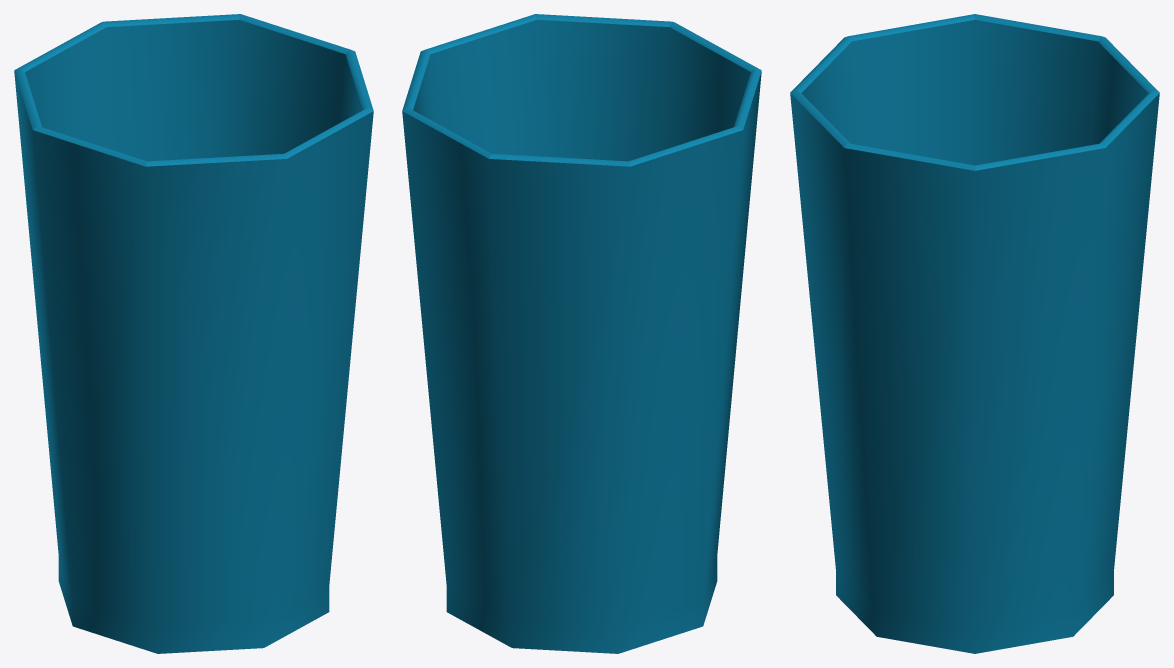
File: Sem4_Prop_Zahnputzbecher_JT.fbx
The picture shows the model from 3 angles, left to right: view 1: azimuth 30°, elevation 25°; view 2: azimuth 150°, elevation 25°; view 3: azimuth 270°, elevation 25°; orthographic projection.
Visible parts, largest first — view 1: Zahnputzbecher; view 2: Zahnputzbecher; view 3: Zahnputzbecher.
Part boxes in pixels (box(x1,y1,x2,y2)): Zahnputzbecher: box(14, 14, 373, 653); Zahnputzbecher: box(402, 14, 761, 653); Zahnputzbecher: box(790, 14, 1159, 653).
Size of the model in its own units: 7.98 by 12.04 by 7.98.
